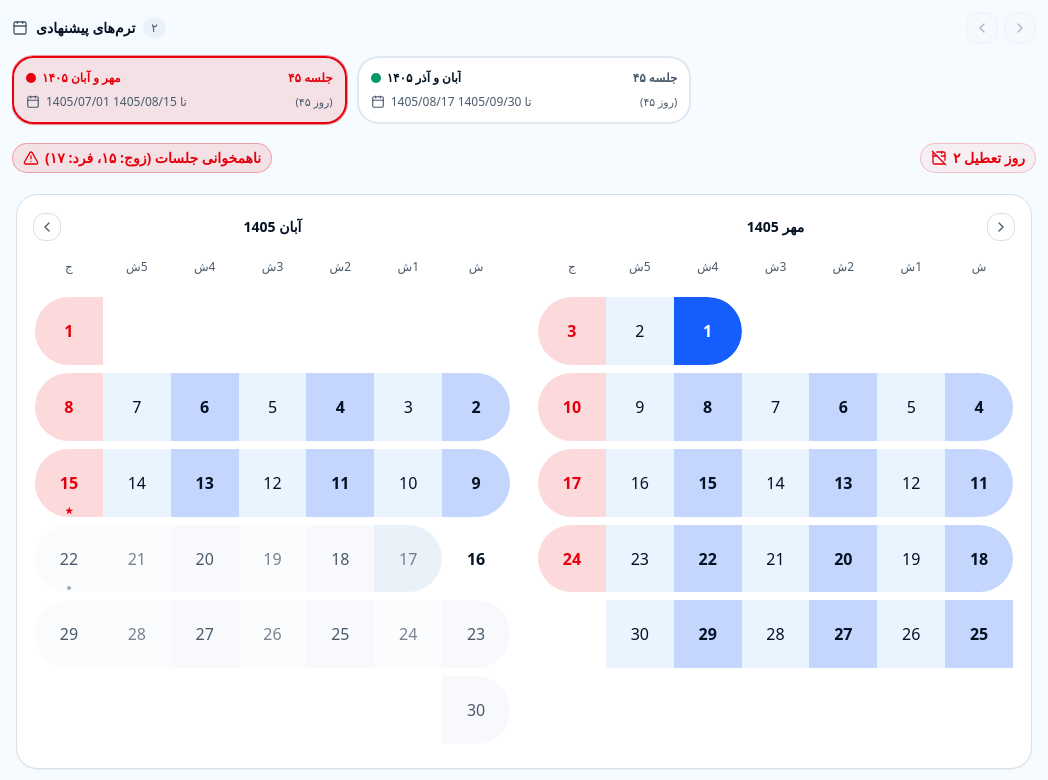
ProposalsCalendar Component › renders active term error notice and off days in status bar between cards and calendar, not inside cards
This screenshot has width=1048, height=780.
Expected: the text "ناهمخوانی جلسات (زوج: ۱۵، فرد: ۱۷)" is shown, [45,148,261,168]
Expected: the text "۲ روز تعطیل" is shown, [953,148,1025,168]
What coordinates should you click on to do the following:
click the button "آبان و آذر ۱۴۰۵ ۴۵ جلسه 1405/08/17 تا 1405/09/30 (۴۵ روز)"
I would click on:
 (524, 90)
Its box is [357,56,691,124].
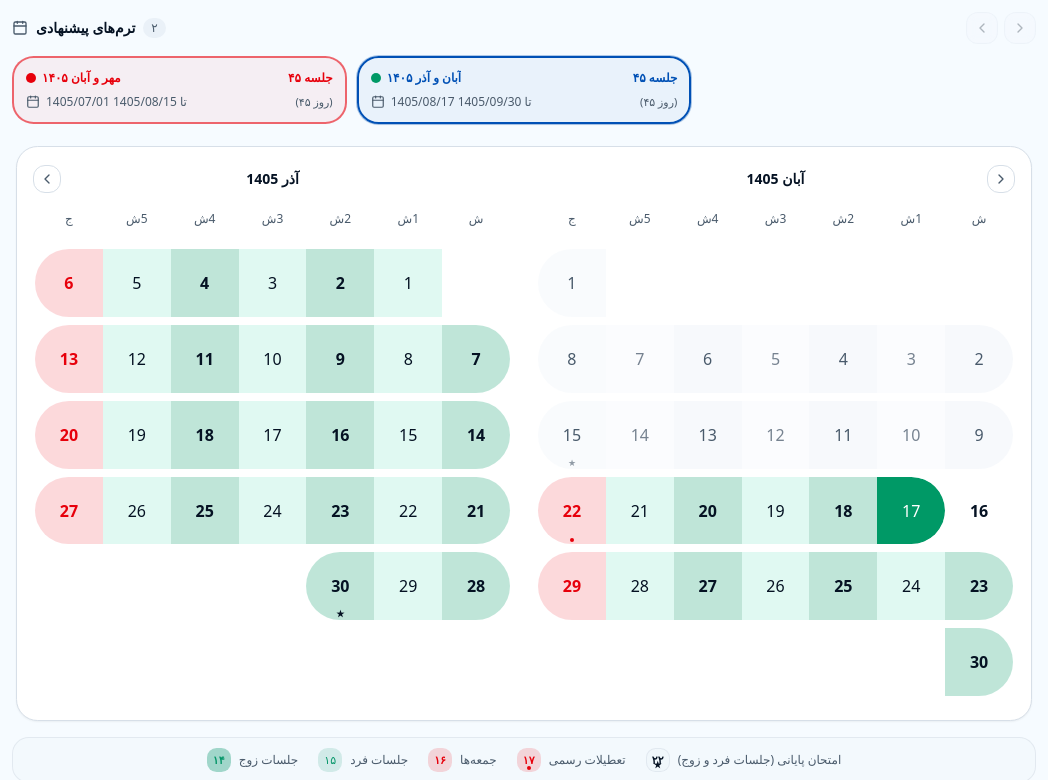
Expected: the text "ناهمخوانی جلسات" is gone
Expected: the text "۲ روز تعطیل" is gone
